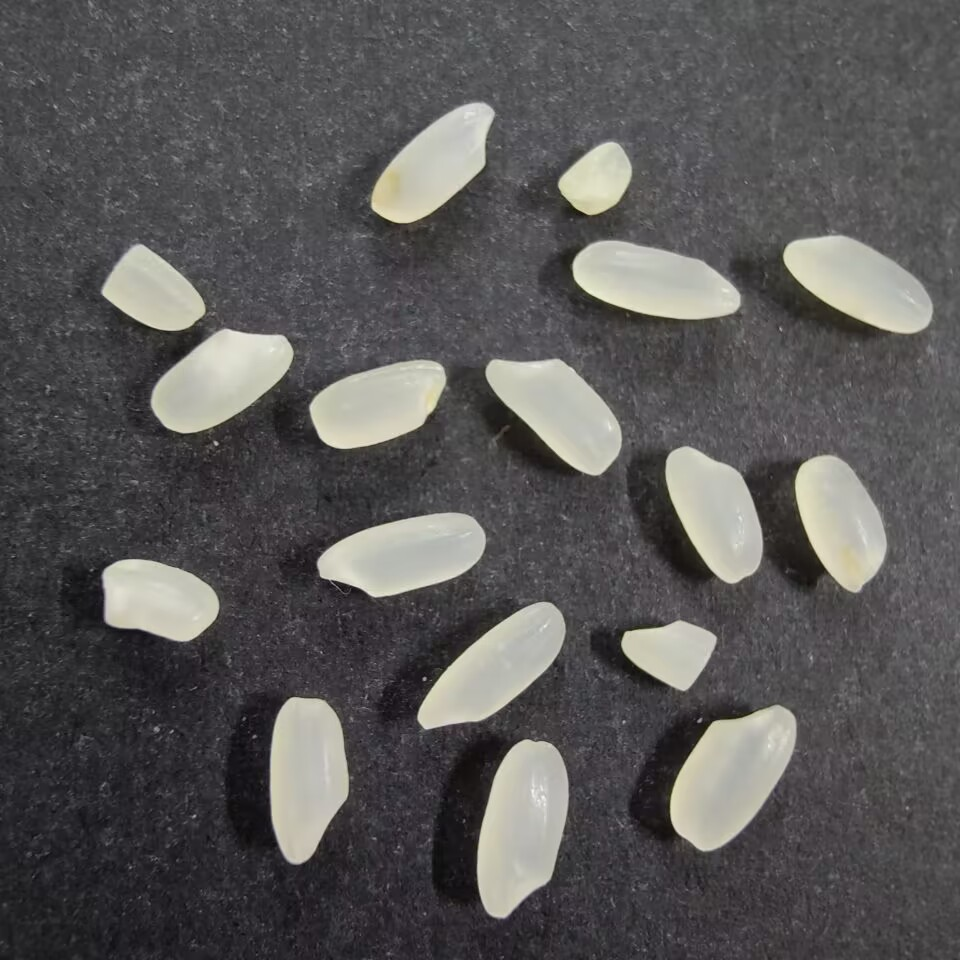broken: (94, 552, 223, 646), (97, 239, 210, 334), (614, 617, 718, 695), (552, 138, 635, 218)
rice: (411, 597, 568, 734), (665, 704, 802, 857), (476, 736, 575, 924), (360, 95, 501, 226), (482, 353, 625, 477), (148, 324, 297, 437), (310, 509, 491, 600), (781, 232, 936, 337), (662, 443, 768, 588), (263, 696, 352, 868), (569, 237, 744, 320), (792, 452, 892, 596), (307, 353, 450, 453)
